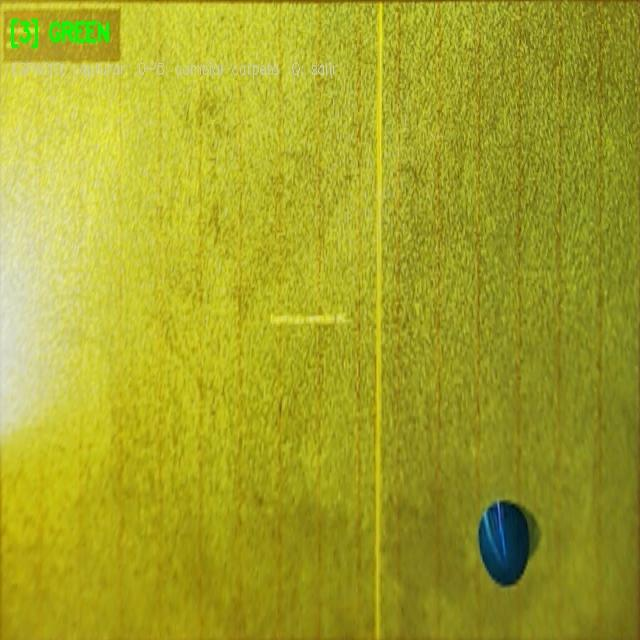green: (480, 495, 528, 585)
